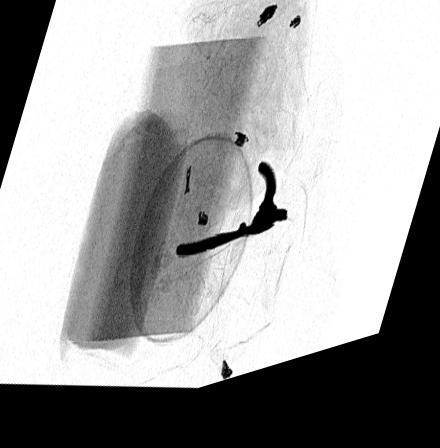Pliers: (174, 175, 289, 268)
